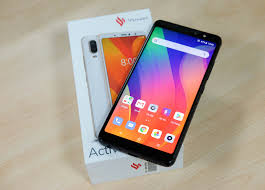vsmart: (95, 16, 222, 170)
